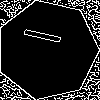I: (22, 25, 72, 49)
